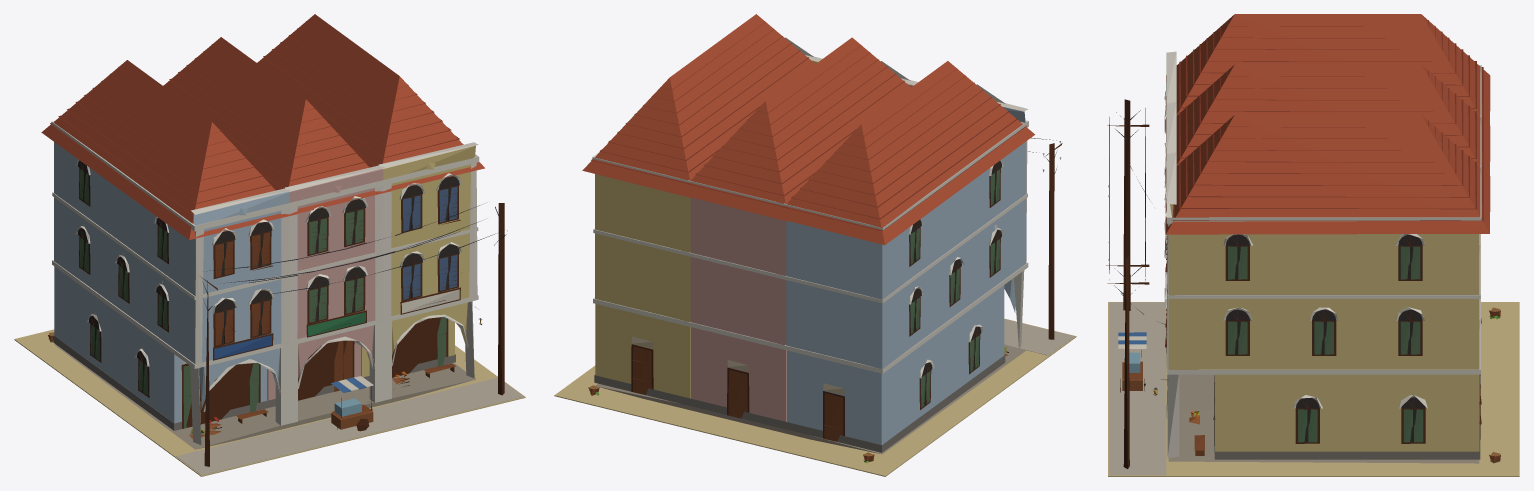
Rendered from shop_4.glb.
3 views of the same model, side by side, from view 1: azimuth 30°, elevation 25°; view 2: azimuth 150°, elevation 25°; view 3: azimuth 270°, elevation 25° (orthographic). The views are drawn at different scales.
Visible parts, largest first — view 1: body, windows; view 2: body, windows; view 3: body, windows.
Part boxes in pixels (x1=…): body: x1=14, y1=14, x2=525, y2=476; windows: x1=77, y1=160, x2=481, y2=395; body: x1=554, y1=14, x2=1076, y2=476; windows: x1=909, y1=161, x2=1001, y2=407; body: x1=1106, y1=14, x2=1519, y2=476; windows: x1=1153, y1=234, x2=1425, y2=442.
Size of the model in its own units: 15.9 by 14.22 by 16.
